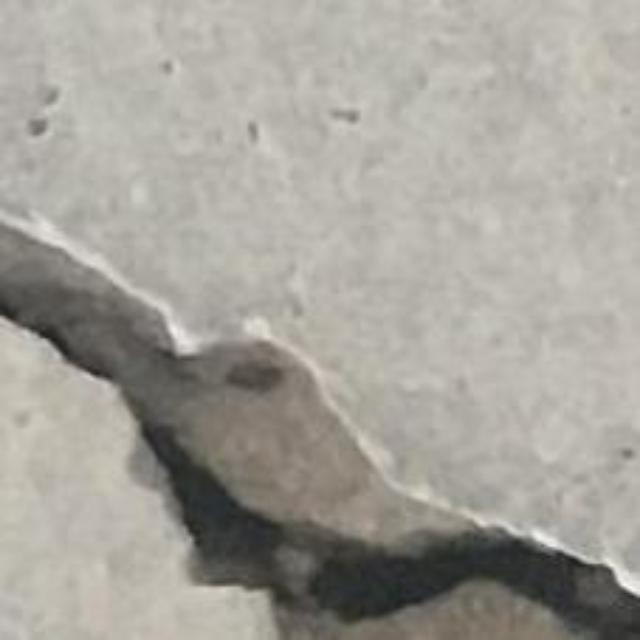crack: (0, 223, 639, 639)
